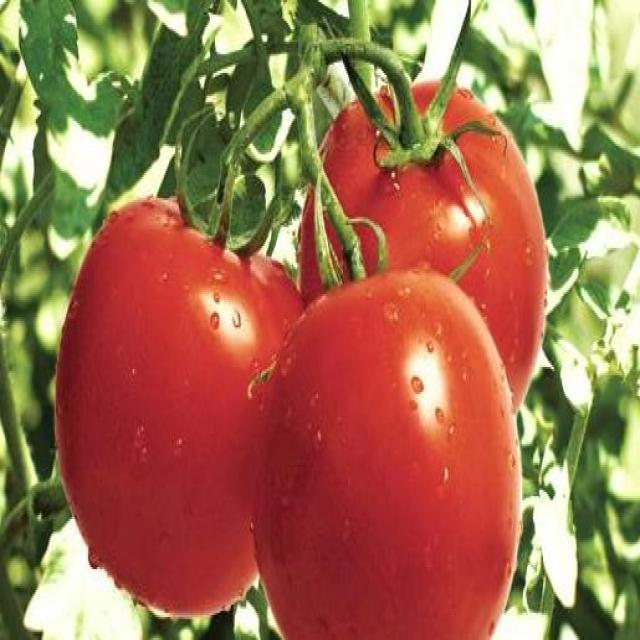kirmizi: (60, 66, 564, 638)
